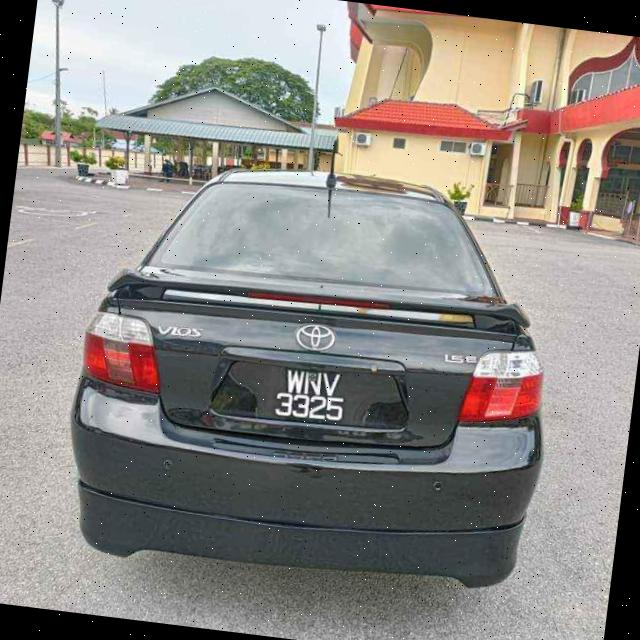License_Plate: (231, 357, 389, 434)
car: (56, 145, 568, 597)
